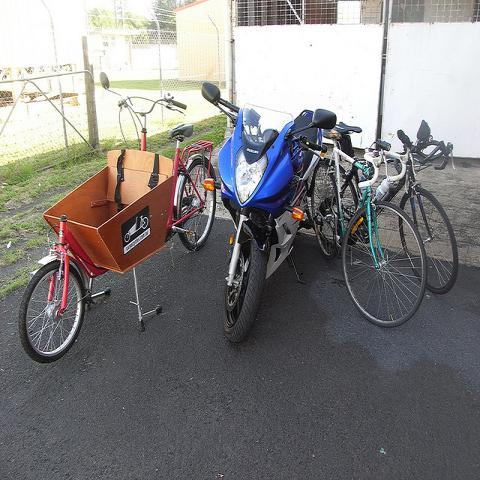motorcycle: (202, 79, 337, 347)
